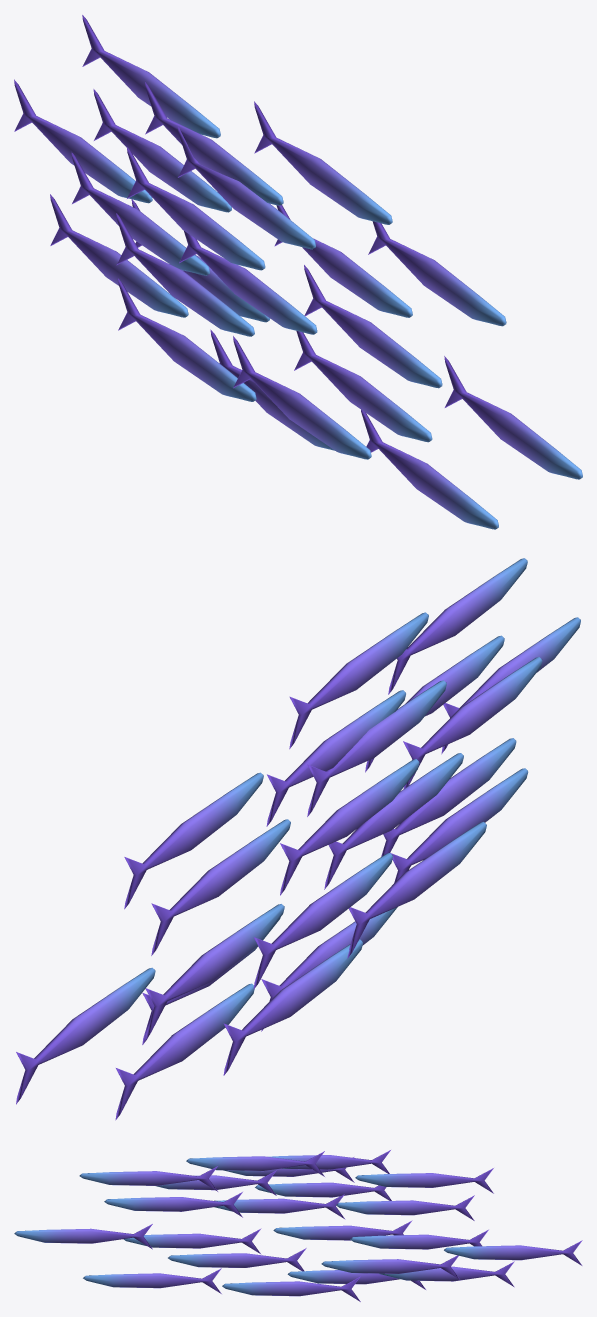
File: fish1.fbx
3 renders of one model, top to bottom at view 1: azimuth 30°, elevation 25°; view 2: azimuth 150°, elevation 25°; view 3: azimuth 270°, elevation 25°, orthographic. The views are drawn at different scales.
Visible parts, largest first — view 1: obj1; view 2: obj1; view 3: obj1.
Part boxes in pixels (x1,y1,x2,y2): obj1: [14, 15, 582, 529]; obj1: [16, 558, 580, 1120]; obj1: [14, 1150, 582, 1301].
Bounding box in the file's own units: 11.33 × 37.12 × 125.
1 material, 1 textured.
